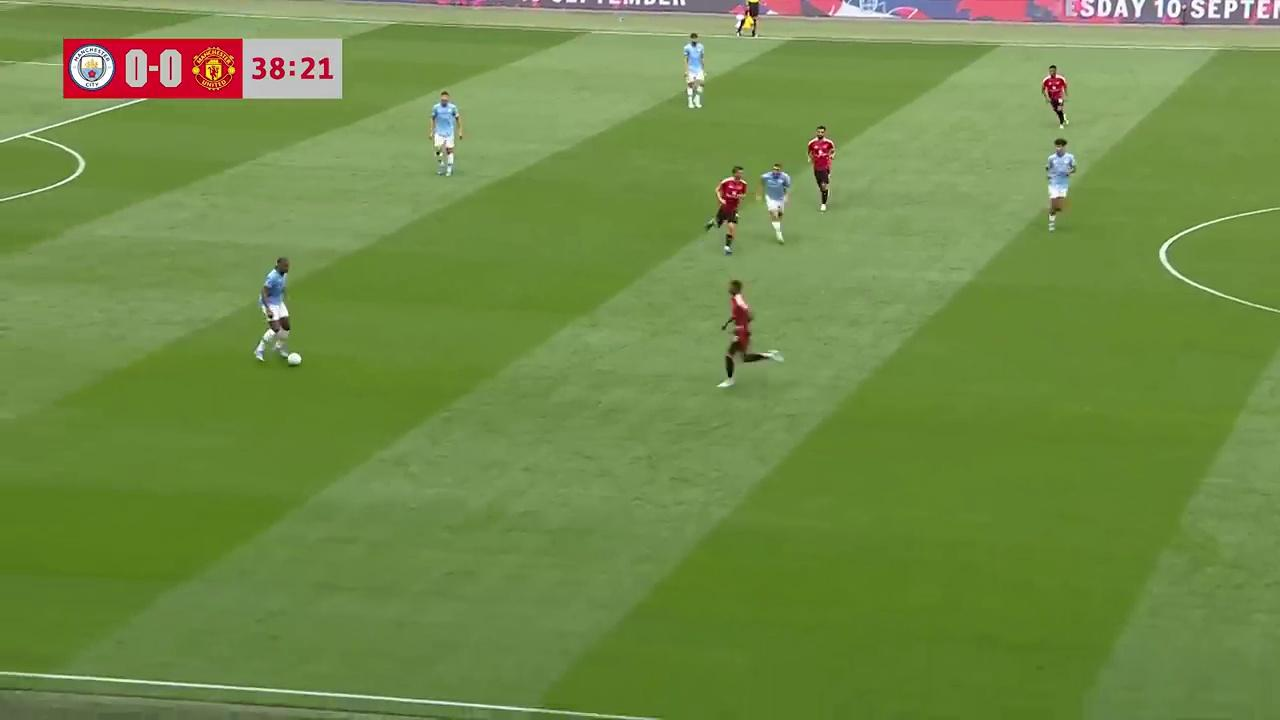ball: (285, 349, 303, 366)
player: (715, 279, 783, 388), (253, 256, 302, 366), (703, 165, 748, 255), (1044, 139, 1076, 231), (429, 91, 463, 177), (758, 160, 792, 245), (807, 125, 836, 210), (1040, 64, 1068, 128), (683, 31, 705, 109)
referee: (740, 0, 761, 40)
